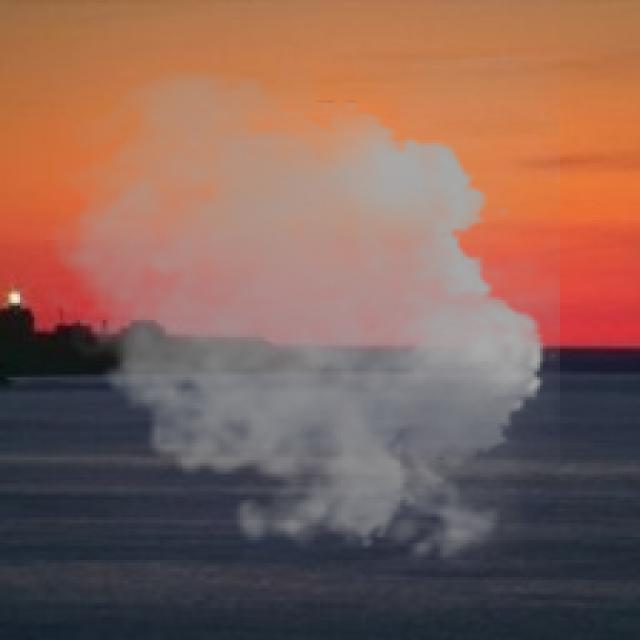Smoke: (31, 57, 560, 577)
